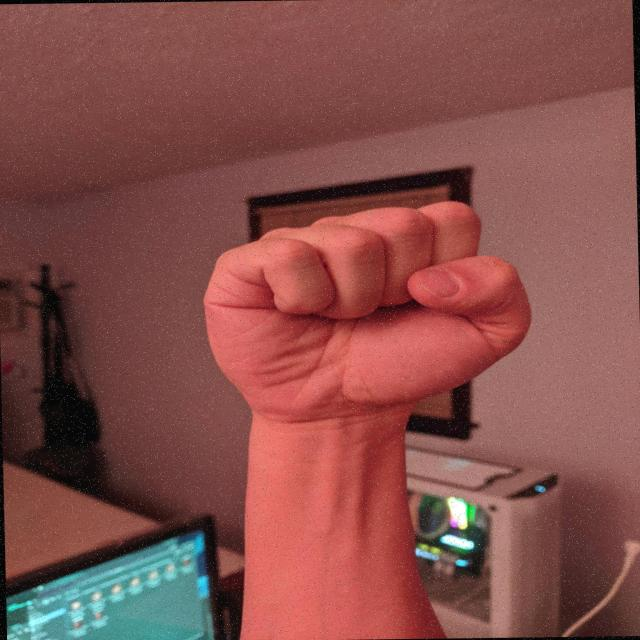S: (194, 193, 543, 427)
